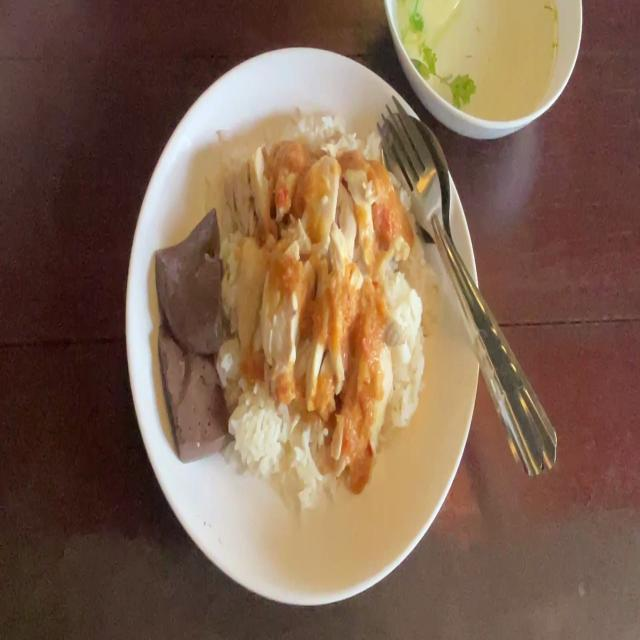boiled_chicken: (225, 145, 386, 438)
boiled_chicken_blood_jelly: (159, 209, 228, 355), (156, 326, 230, 447)
chicken_rice: (160, 113, 434, 507)
